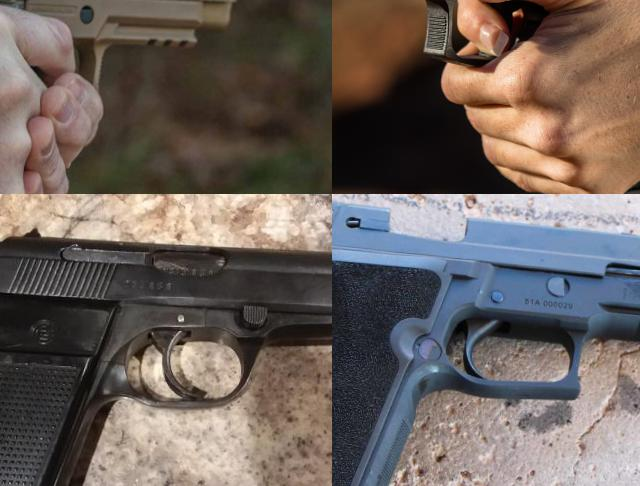handgun: (332, 194, 640, 486), (0, 225, 332, 486), (332, 0, 640, 194), (0, 0, 247, 135)
